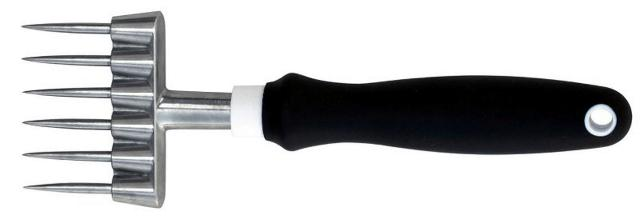ice pick: (20, 9, 632, 209)
